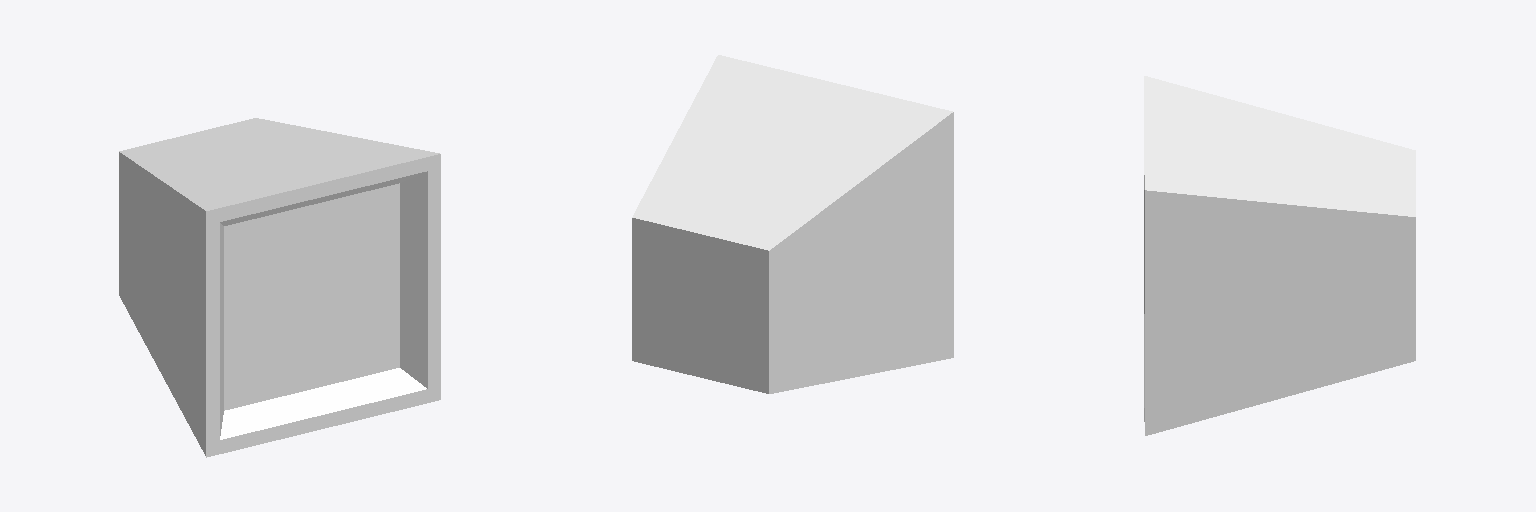
3 views of the same model, side by side, from view 1: azimuth 30°, elevation 25°; view 2: azimuth 150°, elevation 25°; view 3: azimuth 270°, elevation 25° (orthographic).
Visible parts, largest first — view 1: tv:tv; view 2: tv:tv; view 3: tv:tv.
Boxes of the visible parts, <box> form: tv:tv: <box>119,118,440,457</box>; tv:tv: <box>632,55,953,393</box>; tv:tv: <box>1144,76,1415,435</box>.
Bounding box in the file's own units: 1 × 1 × 1.